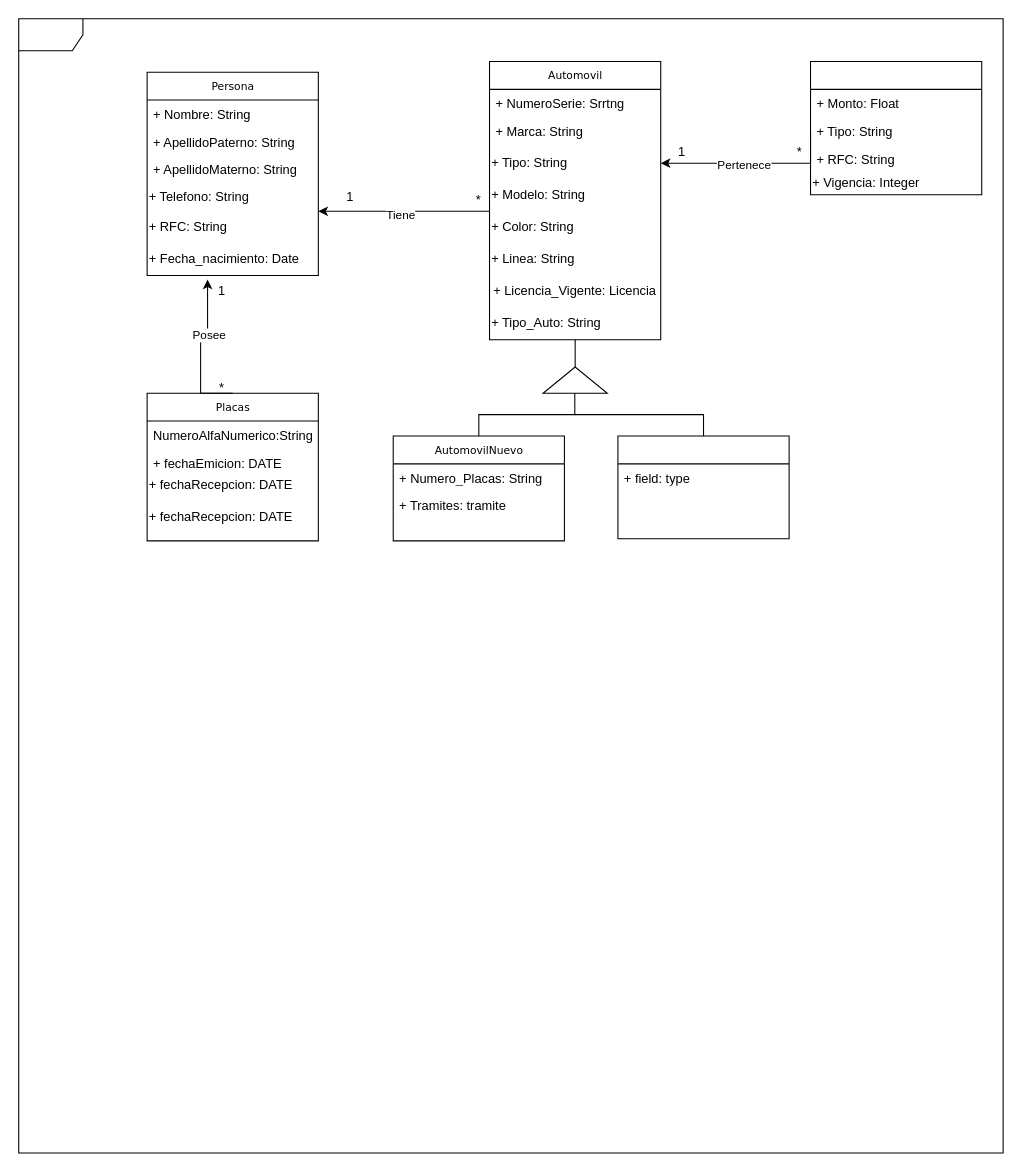
This 1022x1172 diagram has some shape labels left out. The shapes that lost their labels are listed below. From the top down, each one's box as (x1, y1, x2, y2) in pixels, then its label:
(809, 60, 982, 195): Licencia
(617, 435, 789, 539): AutomovilUsado
